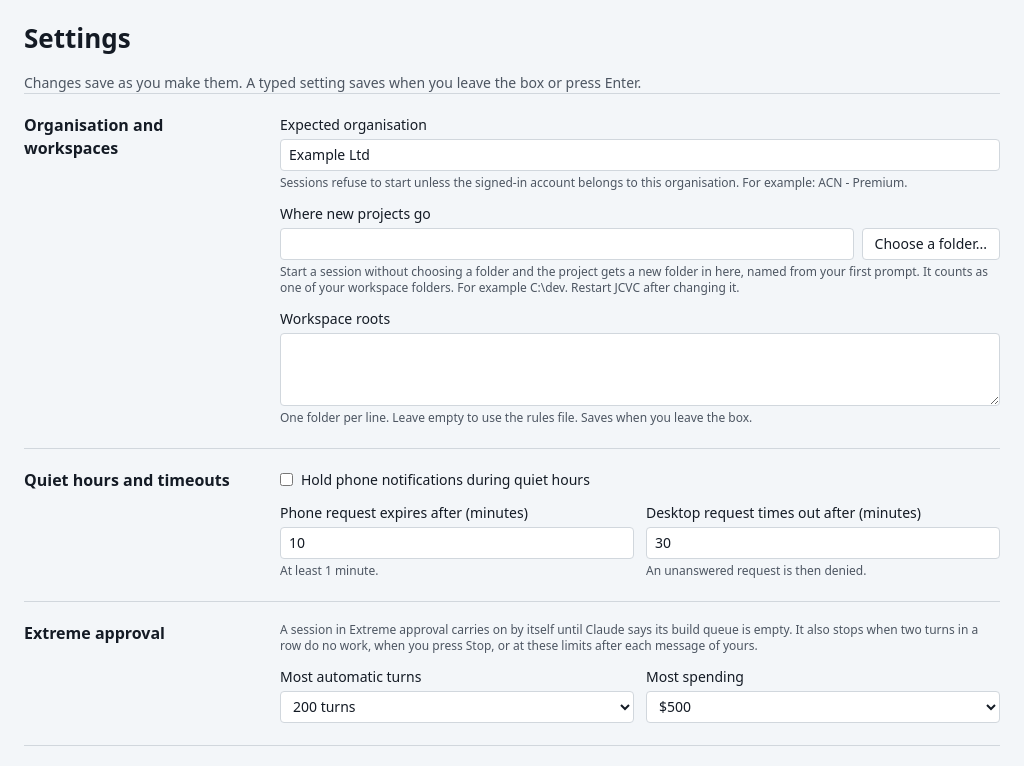
Test: settings save as you change them › says what the Host refused, keeps what you typed, and tries again on the next change
Replace the text in the number field labelled "Desktop request times out" with "0": (823, 543) [646,527,1000,559]
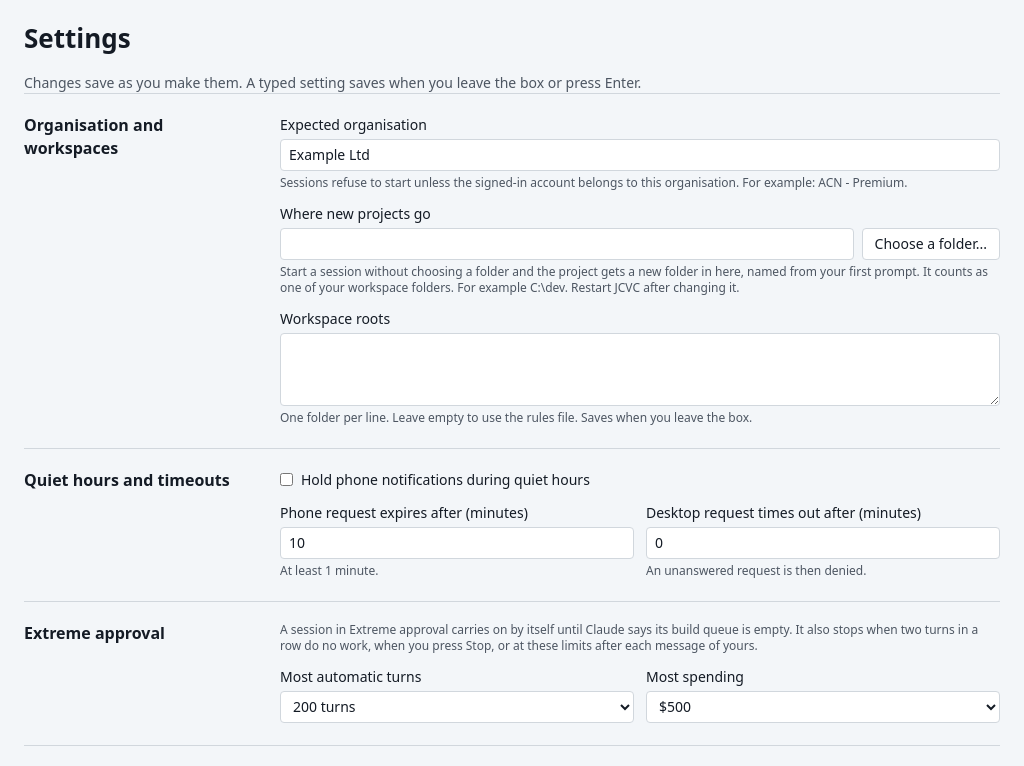
Leave the number field labelled "Desktop request times out", box [646,527,1000,559]
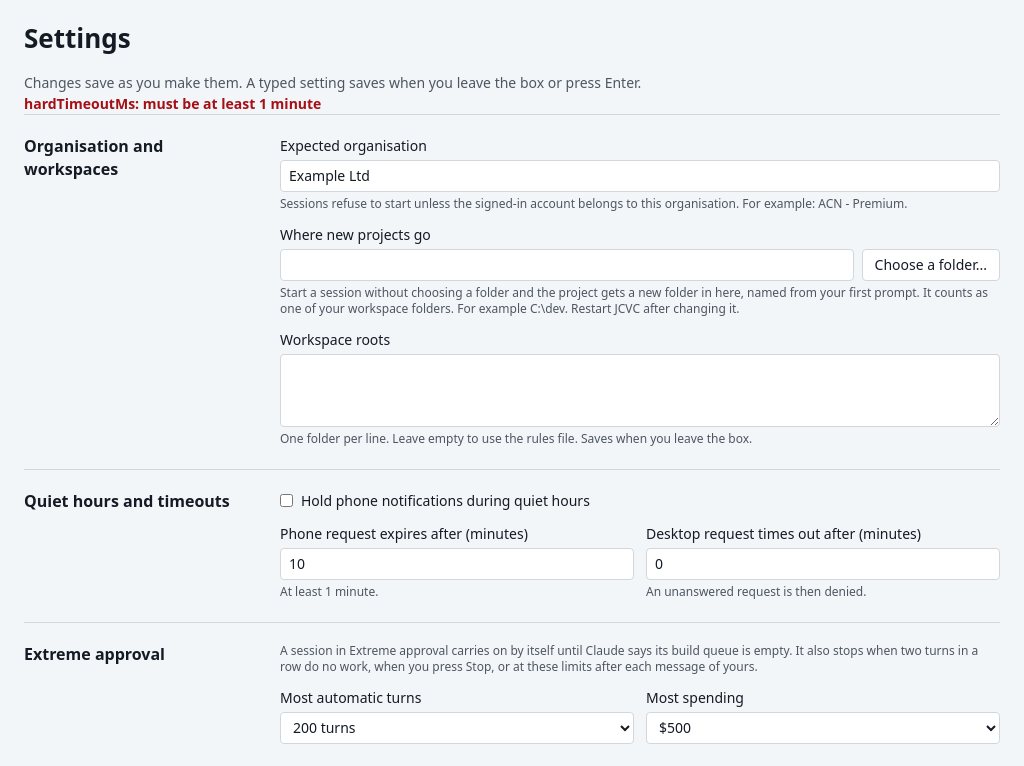
expect the list item "hardTimeoutMs: must be at least 1 minute" is shown: met, box [24,94,321,113]
Replace the text in the number field labelled "Desktop request times out" with "20": (823, 564) [646,548,1000,580]
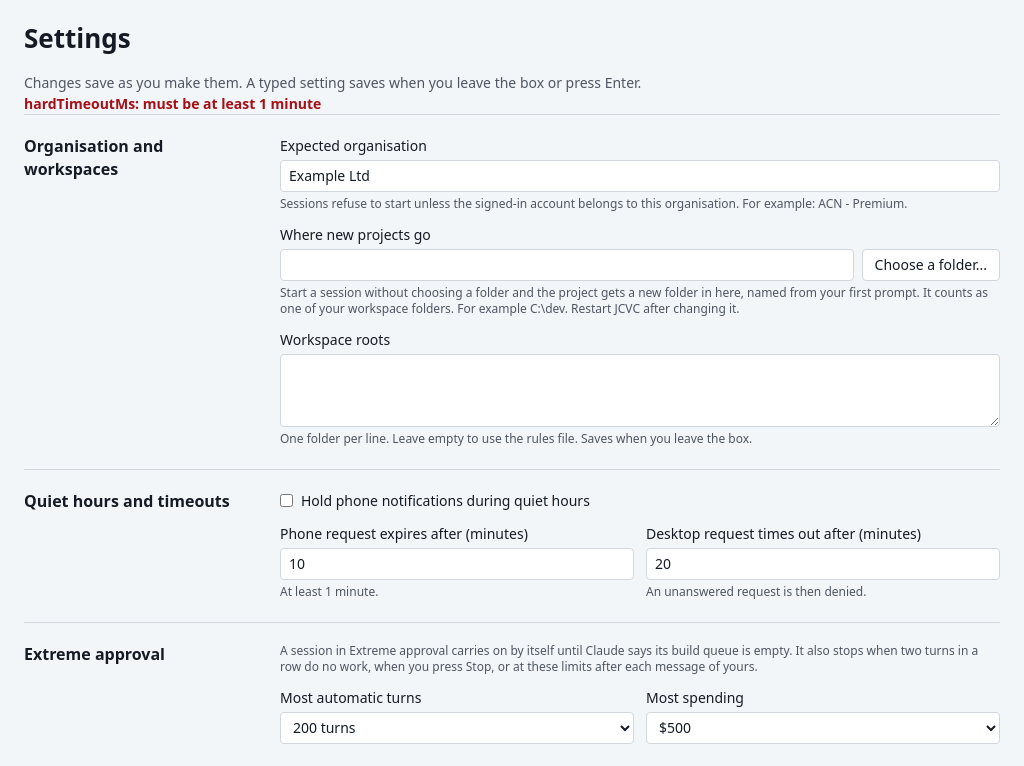
Leave the number field labelled "Desktop request times out", box [646,548,1000,580]
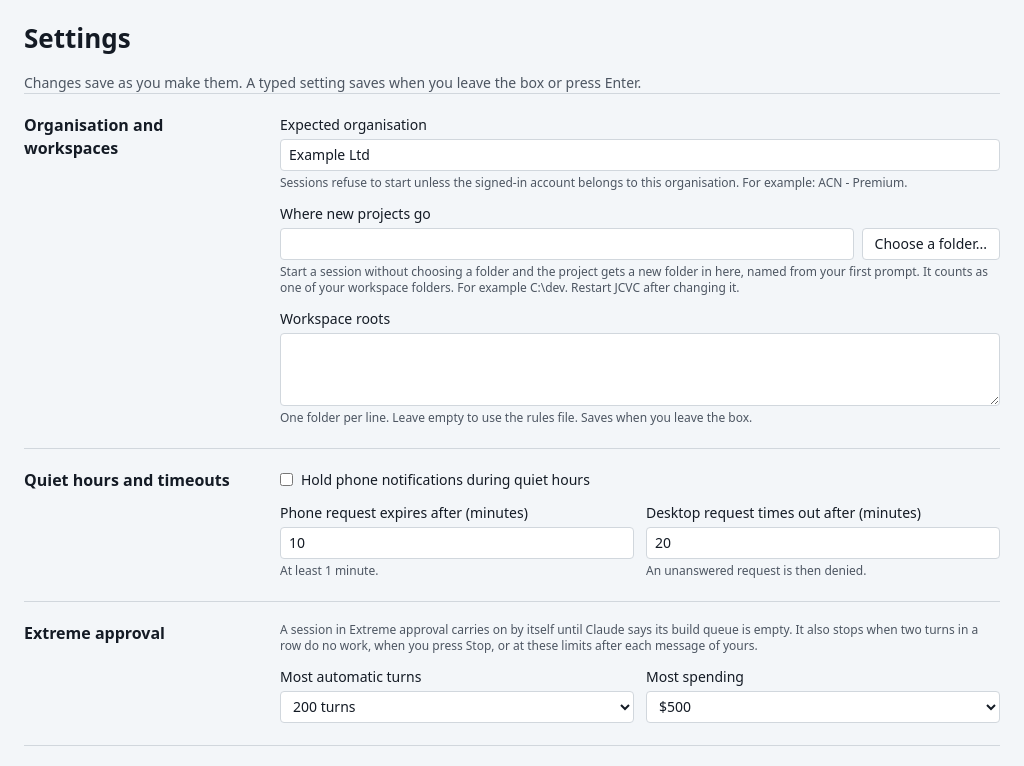
expect the message "hardTimeoutMs: must be at least 1 minute" is gone: met
